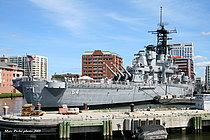MIL_Ship: (11, 5, 196, 105)
